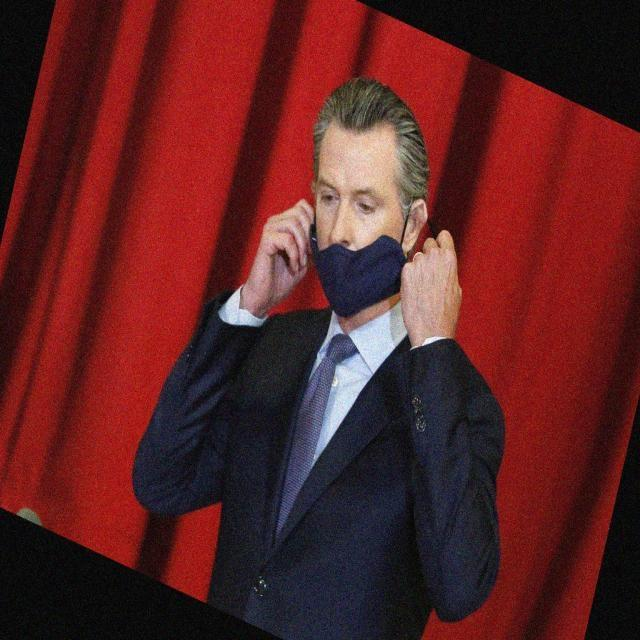hairnet: (298, 119, 414, 302)
